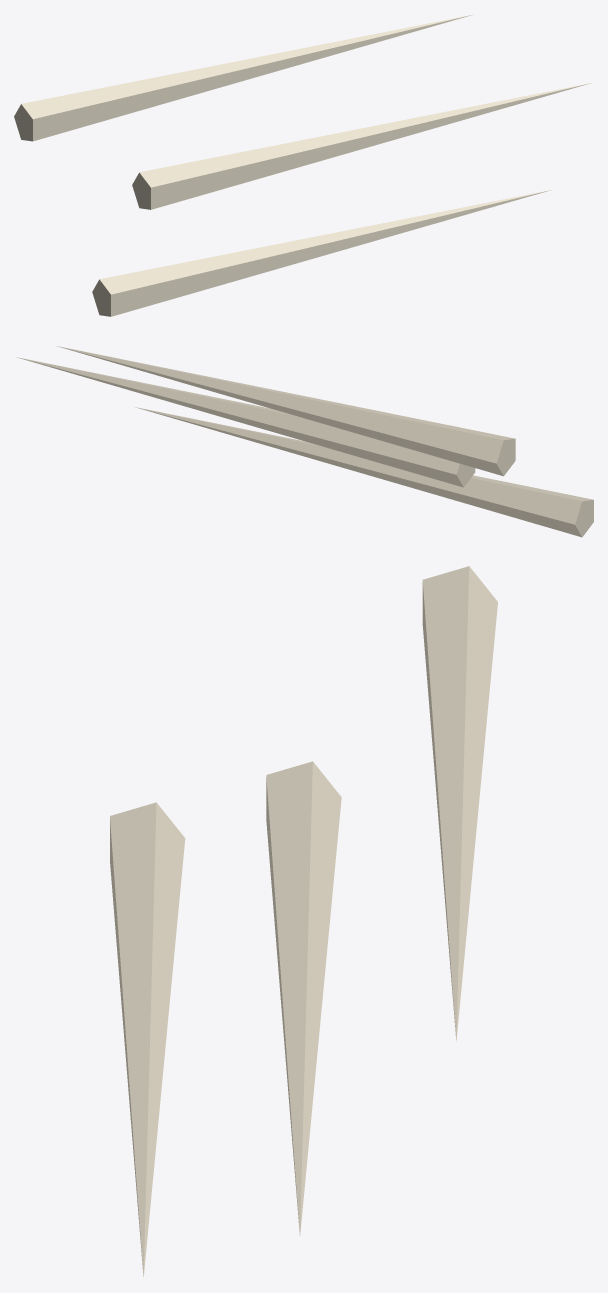
File: item_041_bone_needle_m.glb
The picture shows the model from 3 angles, top to bottom: view 1: azimuth 30°, elevation 25°; view 2: azimuth 150°, elevation 25°; view 3: azimuth 270°, elevation 25°; orthographic projection. The views are drawn at different scales.
Visible parts, largest first — view 1: item_041_bone_needle_m; view 2: item_041_bone_needle_m; view 3: item_041_bone_needle_m.
Boxes of the visible parts, <box> form: item_041_bone_needle_m: <box>14,14,592,316</box>; item_041_bone_needle_m: <box>16,346,593,537</box>; item_041_bone_needle_m: <box>110,566,497,1276</box>.
Size of the model in its own units: 0.47 by 0.1304 by 0.1489.
